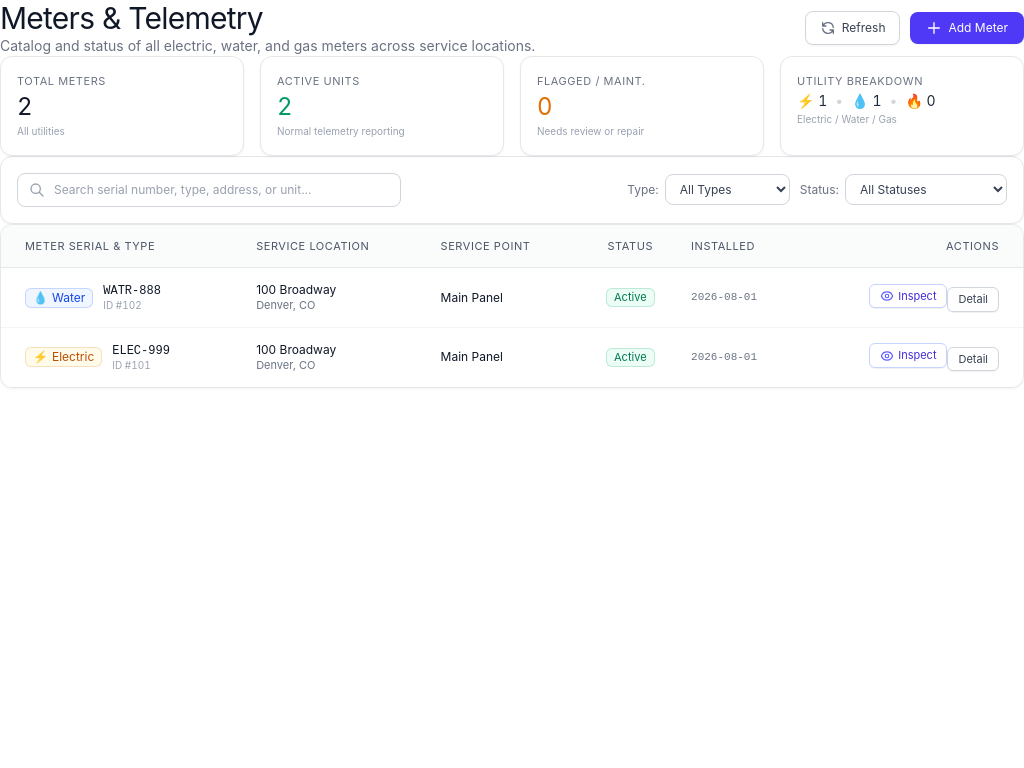
it: MetersView.vue › toggles the inline Add Meter form
Click the button "Add Meter": click(967, 28) [910,12,1023,44]
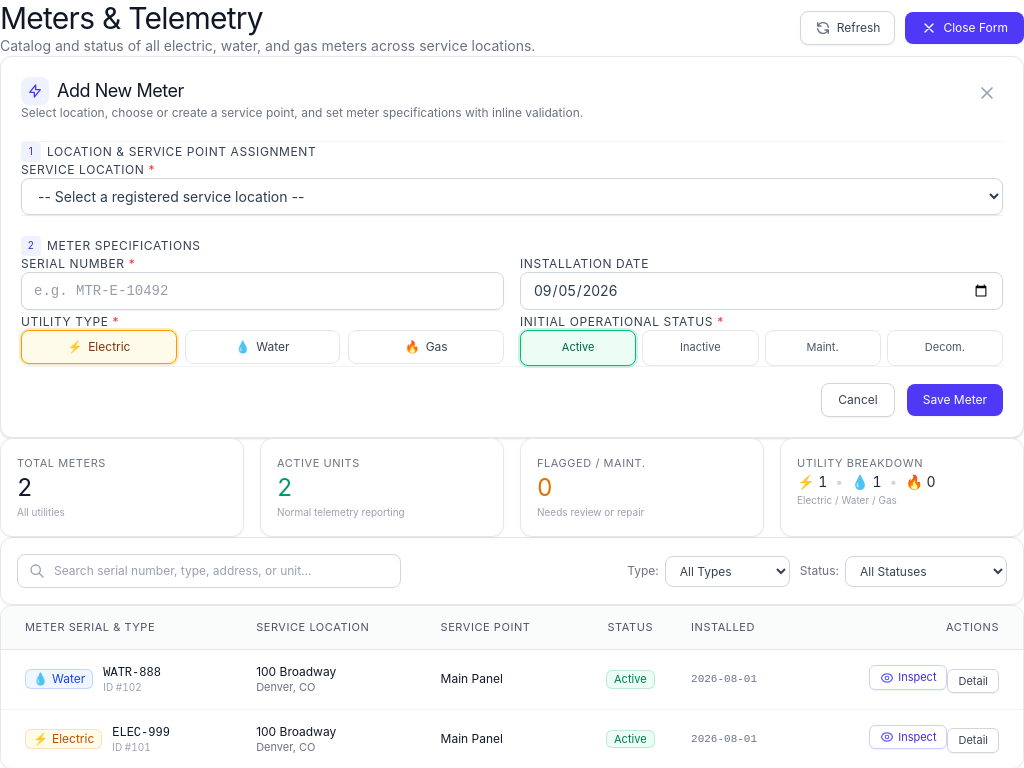
Check: the element that starts with "Add New Meter" is shown, box [0,56,1023,438]
Check: the button "Close Form" is shown, box [905,12,1023,44]
